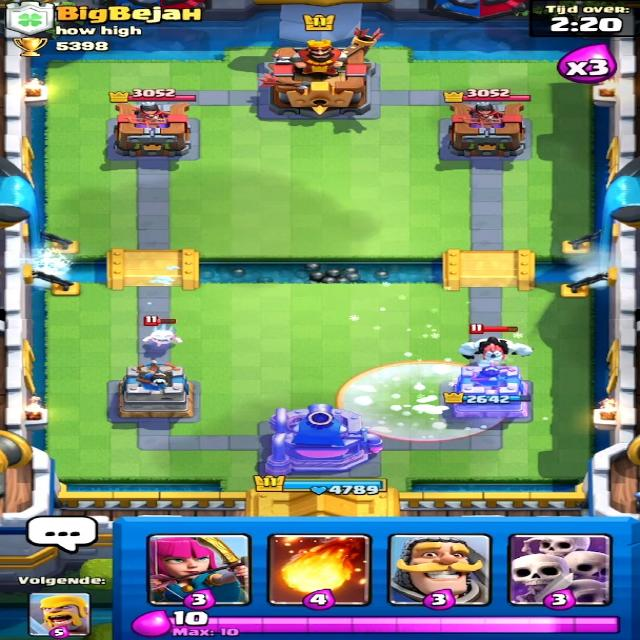Enemy_Ice_Golem_Troop: (454, 335, 532, 364)
Enemy_Ice_Spirit_Troop: (136, 327, 185, 349)
Fireball_Card: (271, 537, 369, 606)
